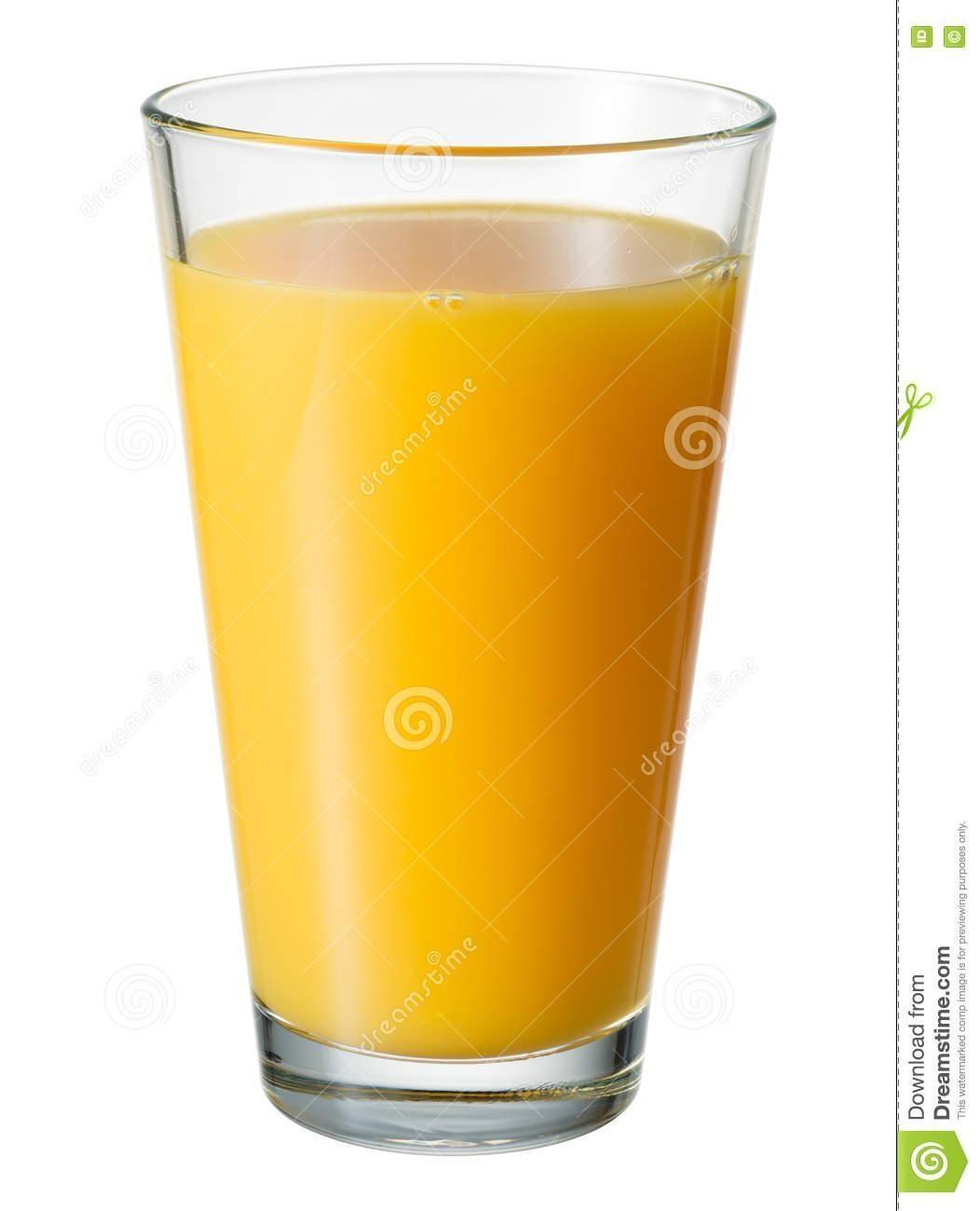glass-normal: (133, 64, 782, 1160)
